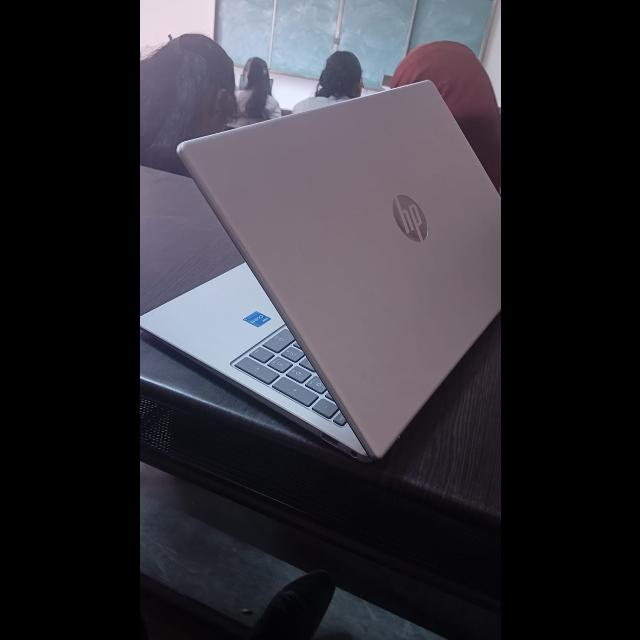laptop: (145, 66, 500, 467)
